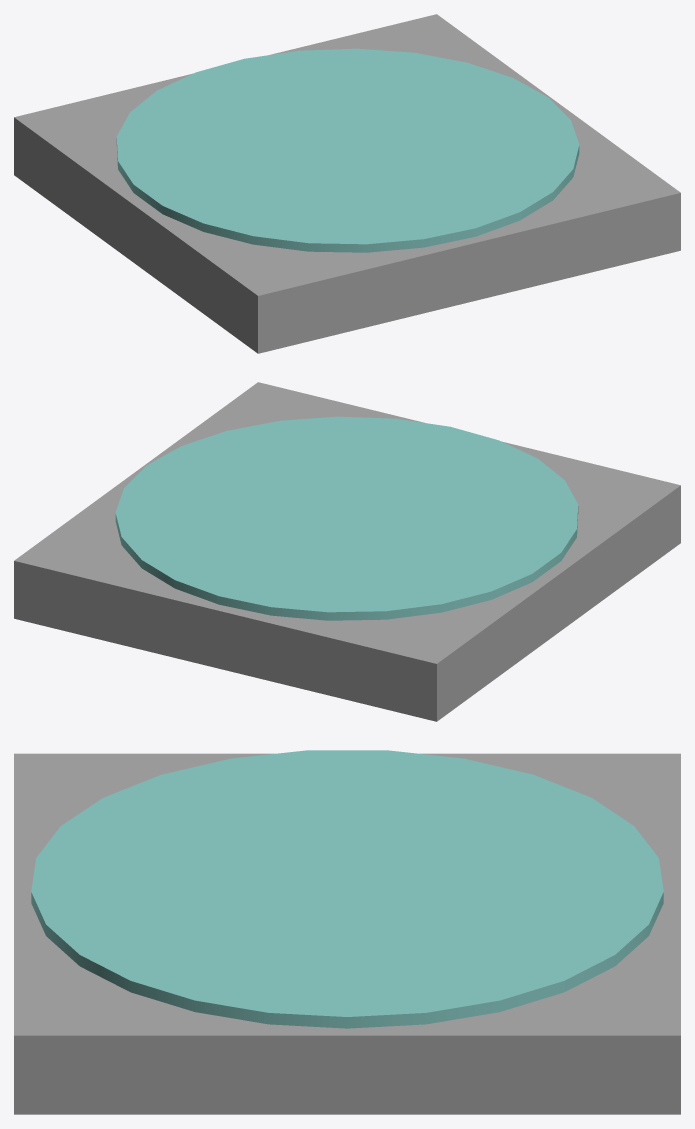
The model's file is Teleporter.fbx.
The picture shows the model from 3 angles, top to bottom: view 1: azimuth 30°, elevation 25°; view 2: azimuth 150°, elevation 25°; view 3: azimuth 270°, elevation 25°; orthographic projection. The views are drawn at different scales.
Parts seen in each view (by area): view 1: pCube2; view 2: pCube2; view 3: pCube2.
Part boxes in pixels (box(x1,y1,x2,y2)): pCube2: box(14, 14, 680, 353); pCube2: box(14, 382, 680, 721); pCube2: box(14, 750, 680, 1114).
Size of the model in its own units: 3.7 by 0.5547 by 3.7.
